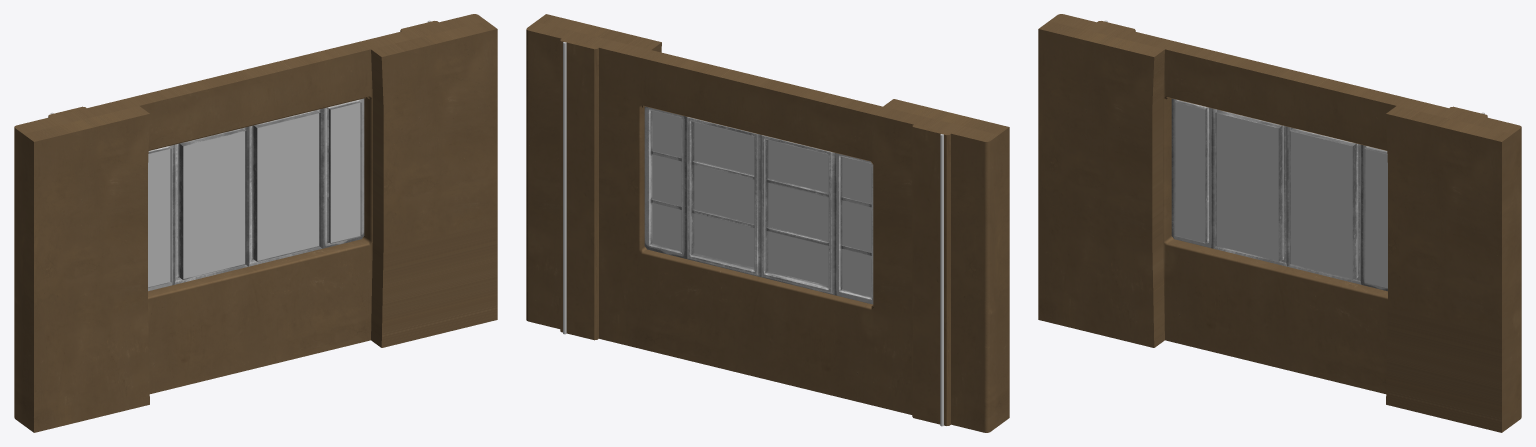
The model's file is SM_Building01Wall01R.fbx.
3 views of the same model, side by side, from view 1: azimuth 30°, elevation 25°; view 2: azimuth 150°, elevation 25°; view 3: azimuth 330°, elevation 25° (orthographic).
Parts seen in each view (by area): view 1: SM_Building01Wall01R_LOD0; view 2: SM_Building01Wall01R_LOD0; view 3: SM_Building01Wall01R_LOD0.
Boxes of the visible parts, x1=… form: SM_Building01Wall01R_LOD0: x1=14, y1=14, x2=497, y2=432; SM_Building01Wall01R_LOD0: x1=526, y1=14, x2=1009, y2=432; SM_Building01Wall01R_LOD0: x1=1038, y1=14, x2=1521, y2=432.
Bounding box in the file's own units: 500 × 47.65 × 300.
Materials: 5 (3 with a texture image).
